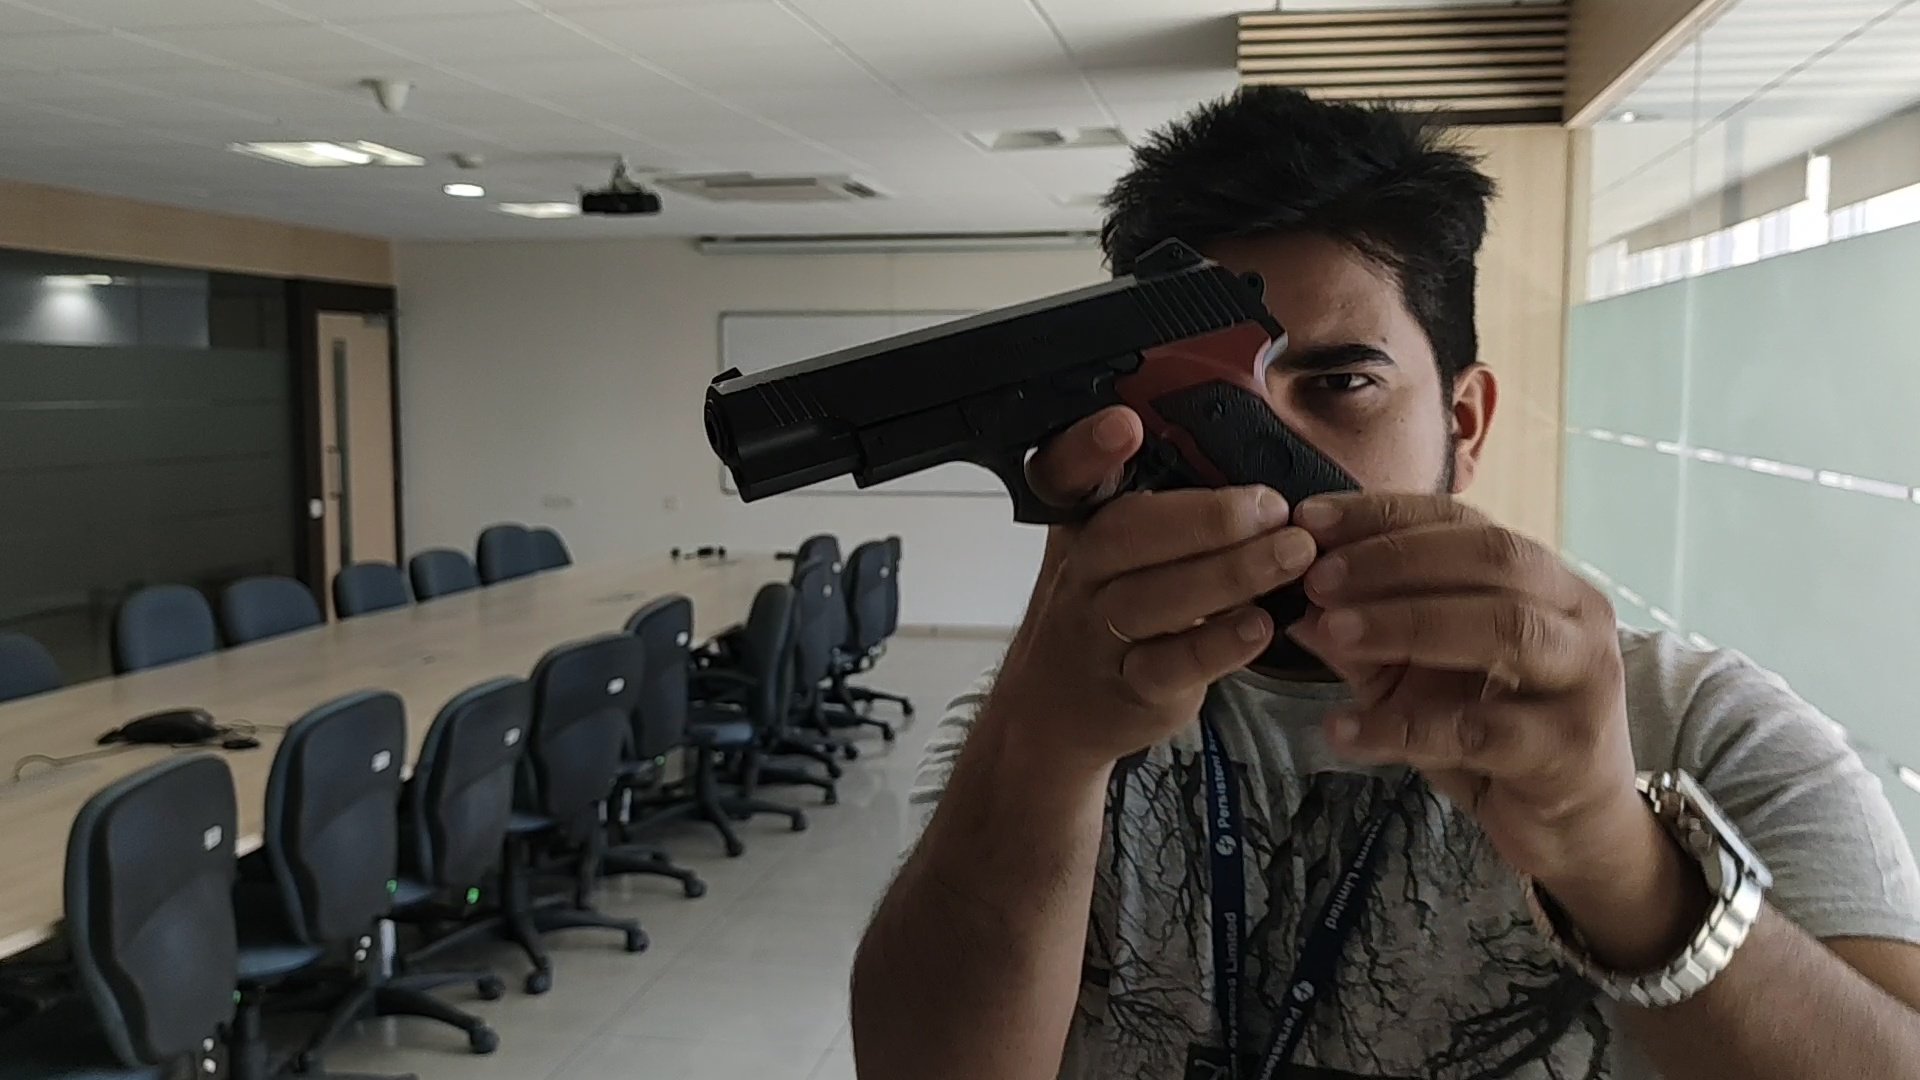gun: (702, 237, 1288, 404)
